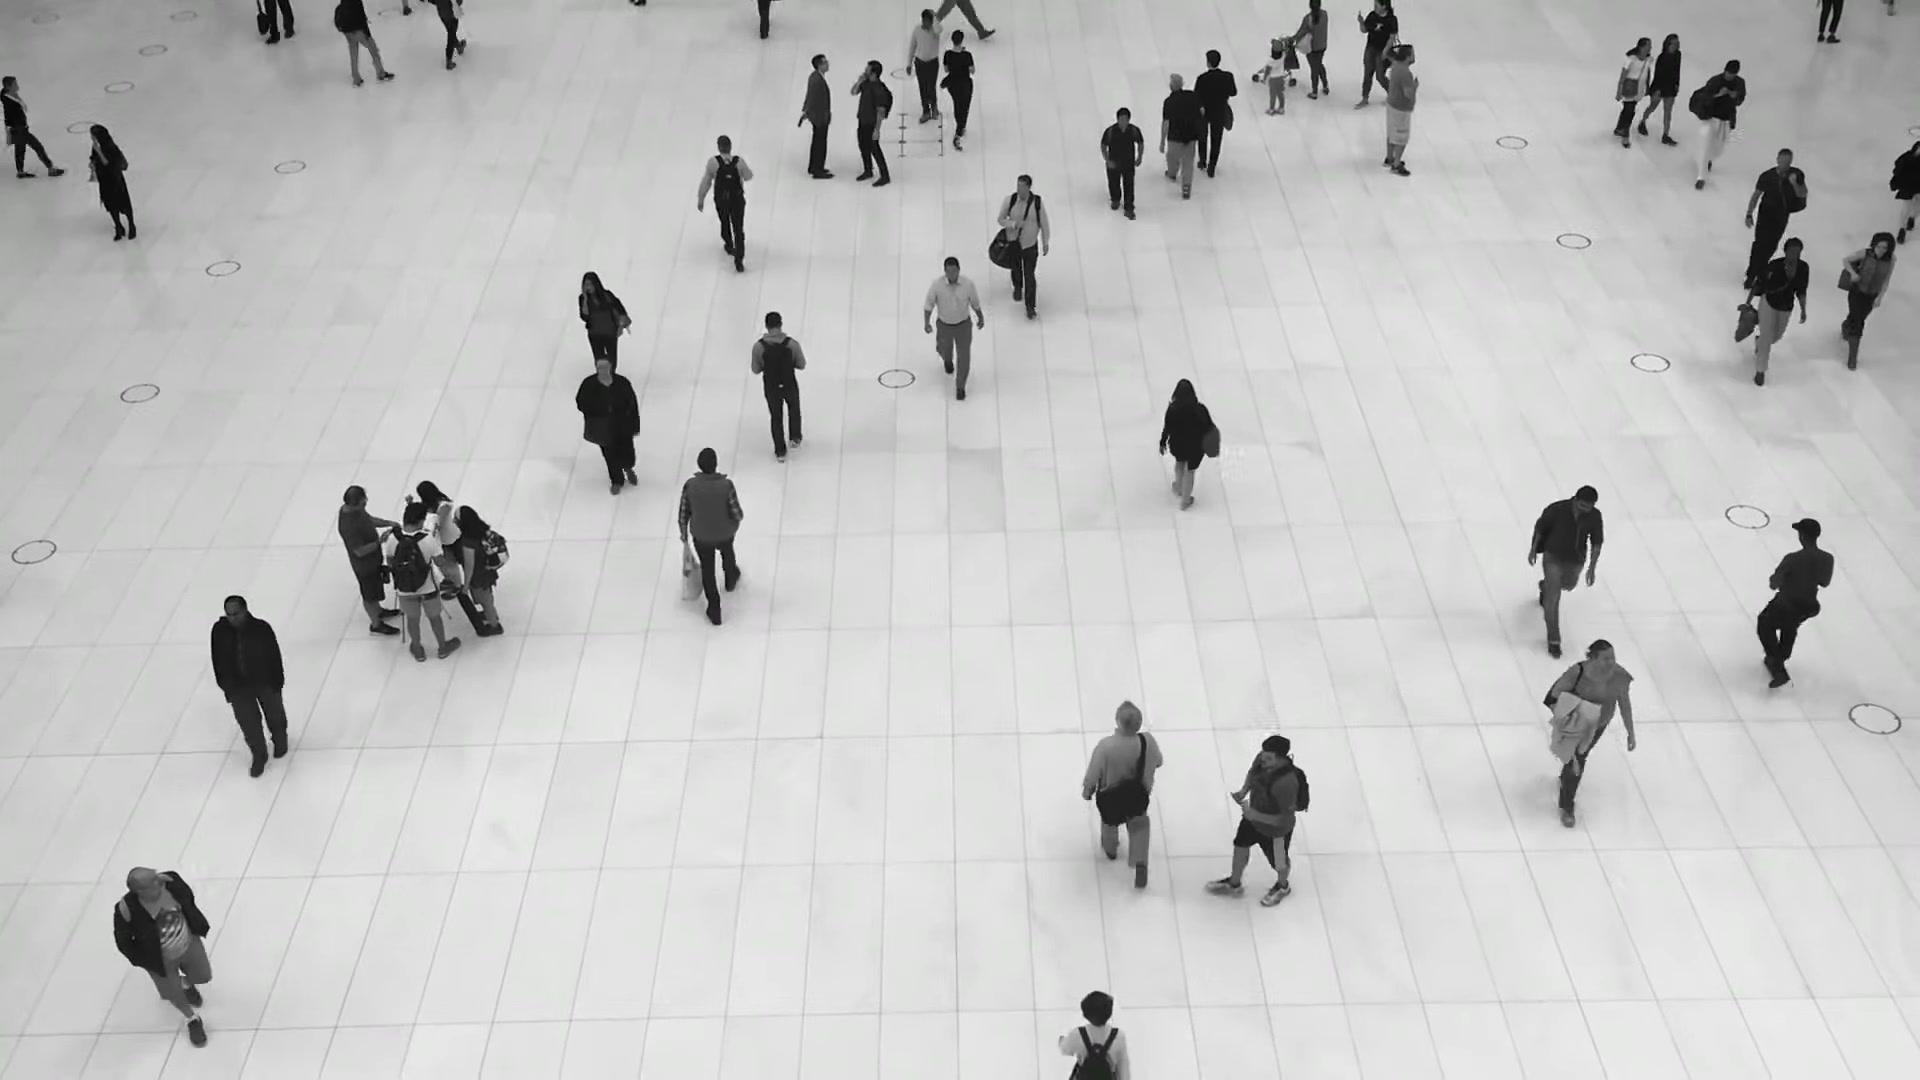person: (113, 865, 217, 1047), (1543, 639, 1636, 820), (1217, 733, 1308, 908), (1083, 700, 1164, 893), (1748, 517, 1833, 696), (210, 595, 289, 774), (1528, 486, 1605, 660), (382, 503, 460, 662), (678, 445, 744, 623), (574, 356, 641, 499), (337, 484, 400, 635), (1748, 236, 1811, 387), (1743, 148, 1808, 283), (923, 257, 984, 401), (752, 311, 807, 461), (1839, 230, 1899, 368), (697, 133, 753, 270), (998, 173, 1050, 321), (1692, 59, 1746, 190), (1159, 379, 1212, 511), (454, 504, 506, 636), (1055, 988, 1130, 1080), (0, 75, 66, 179), (1157, 72, 1205, 197), (89, 121, 136, 241), (1194, 49, 1237, 178), (850, 59, 893, 187), (577, 270, 629, 374), (417, 479, 459, 599), (1101, 106, 1145, 219), (1639, 32, 1682, 144), (1383, 43, 1420, 176), (1353, 0, 1398, 108), (797, 53, 834, 179), (1613, 37, 1653, 146), (907, 10, 943, 131), (942, 28, 975, 149), (1290, 0, 1329, 99), (1262, 37, 1287, 115)
